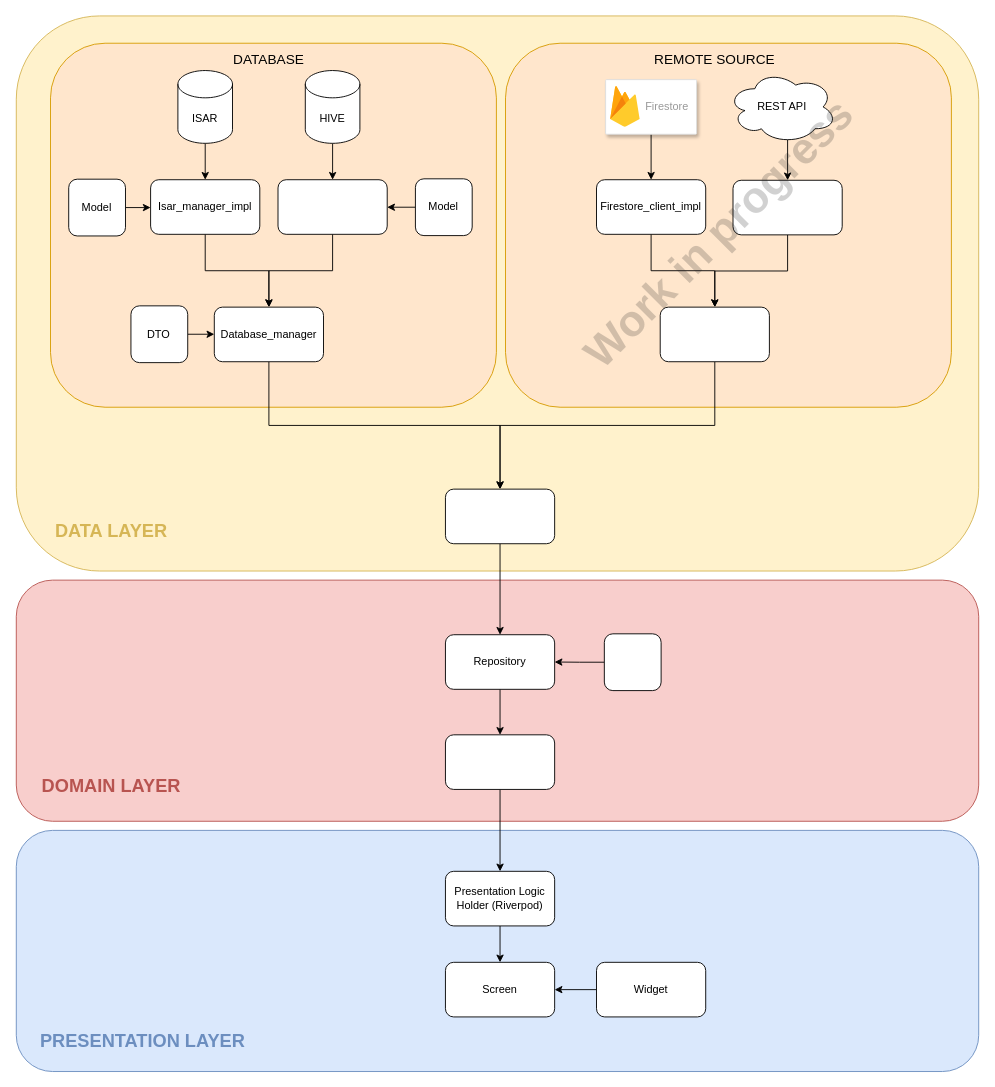
Image size: 995x1087. Some labels were removed from this diagram. Each missing label, with the centre of its shape:
"API_client" goes at [714,334].
"Api_client_impl" goes at [787,207].
"Entity" goes at [632,662].
"Hive_manager_impl" goes at [332,206].
"Repository_impl" goes at [500,516].
"Use_case" goes at [500,761].
